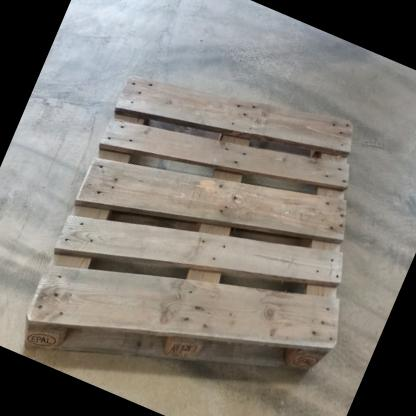BoxFace: (21, 69, 356, 378)
